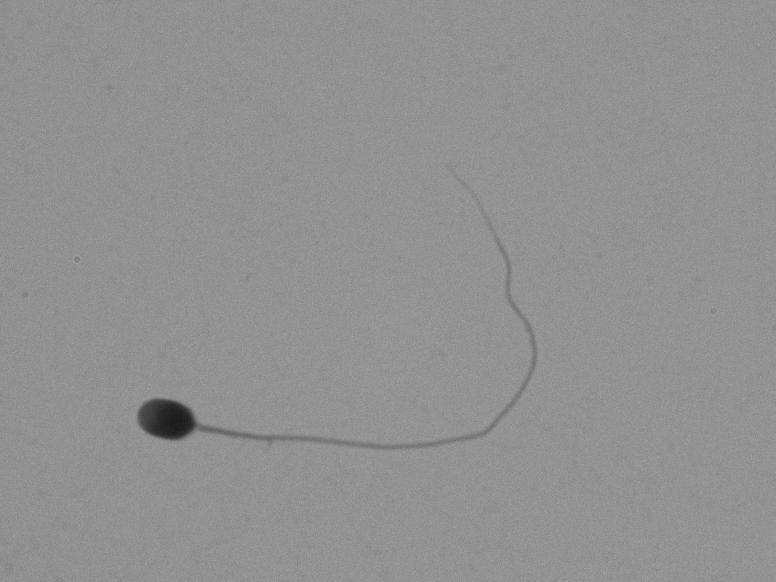Normal: (98, 231, 599, 509)
